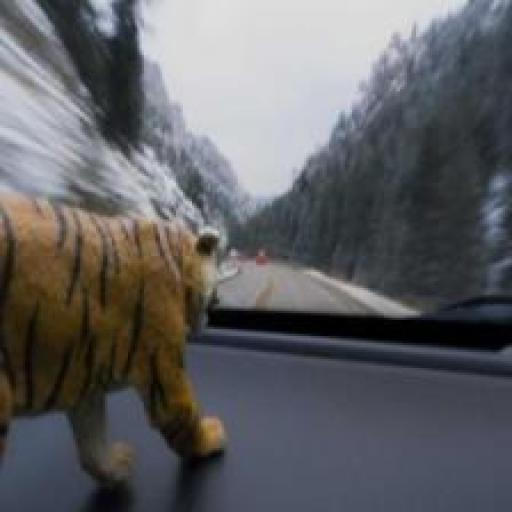Tiger: (0, 222, 293, 497)
